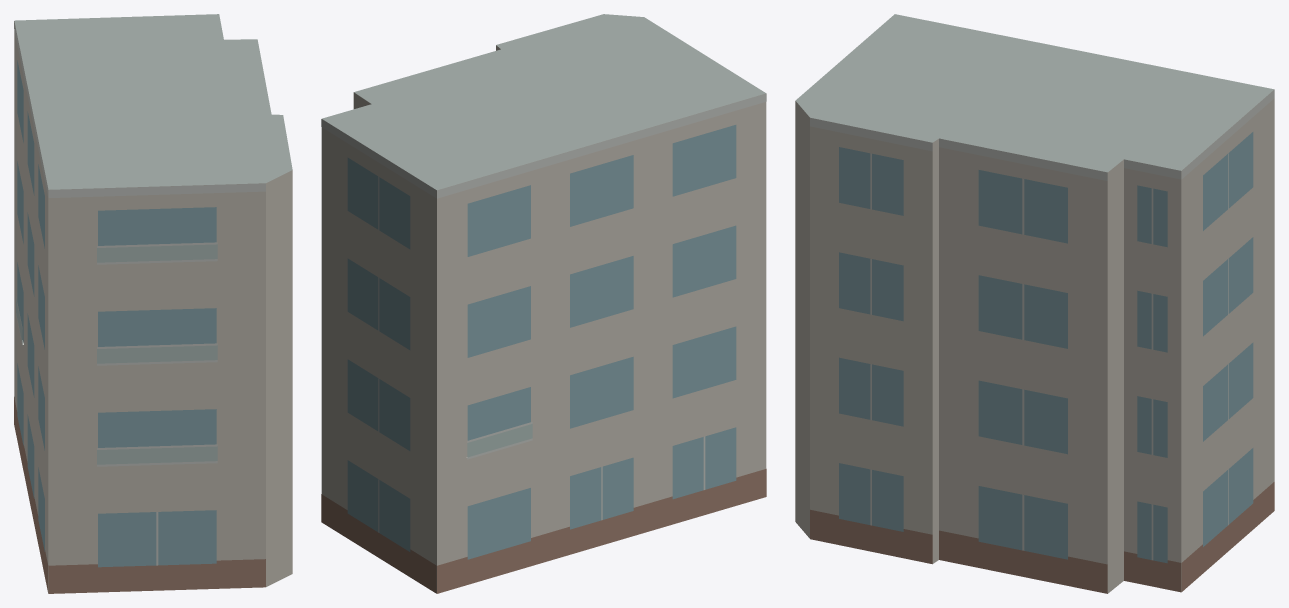
The model's file is survey-upis-32531393.glb.
3 renders of one model, left to right at view 1: azimuth 30°, elevation 25°; view 2: azimuth 150°, elevation 25°; view 3: azimuth 270°, elevation 25°, orthographic. The views are drawn at different scales.
Parts seen in each view (by area): view 1: survey-upis-32531393.tmp; view 2: survey-upis-32531393.tmp; view 3: survey-upis-32531393.tmp.
Boxes of the visible parts, x1=… form: survey-upis-32531393.tmp: x1=14, y1=14, x2=292, y2=593; survey-upis-32531393.tmp: x1=321, y1=14, x2=766, y2=593; survey-upis-32531393.tmp: x1=795, y1=14, x2=1274, y2=593.
Bounding box in the file's own units: 9.52 × 11.8 × 12.17.
